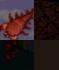crimera: (0, 0, 34, 40)
eyeC: (0, 40, 34, 64)
workbench: (34, 40, 59, 70)
